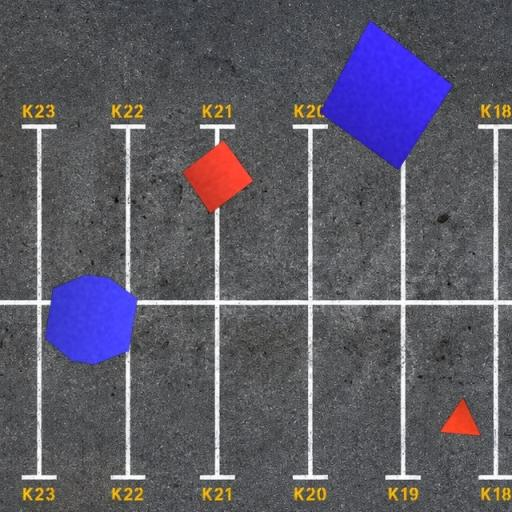BLUE_SQUARE: (319, 20, 454, 170)
RED_SQUARE: (182, 140, 254, 214)
